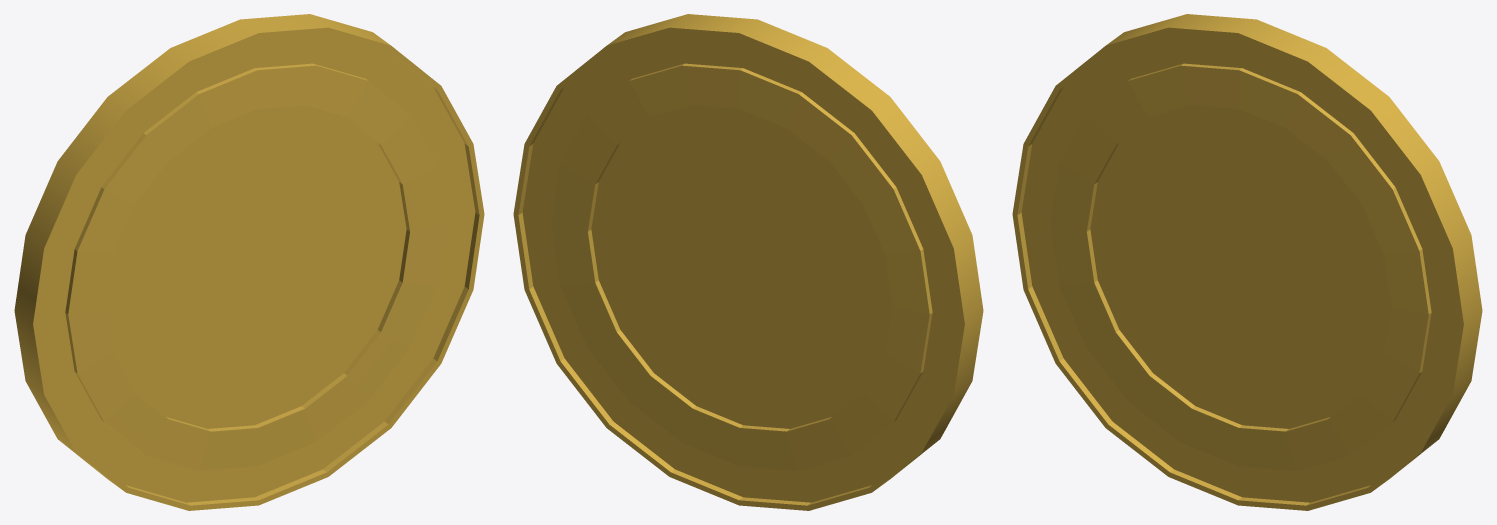
Rendered from coin.fbx.
The picture shows the model from 3 angles, left to right: view 1: azimuth 30°, elevation 25°; view 2: azimuth 150°, elevation 25°; view 3: azimuth 330°, elevation 25°; orthographic projection.
Parts seen in each view (by area): view 1: geo_coin; view 2: geo_coin; view 3: geo_coin.
Boxes of the visible parts, x1,y1,x2,y2 form: geo_coin: (14, 14, 484, 510); geo_coin: (513, 14, 983, 510); geo_coin: (1012, 14, 1482, 510).
Size of the model in its own units: 36.77 by 36.77 by 2.62.
